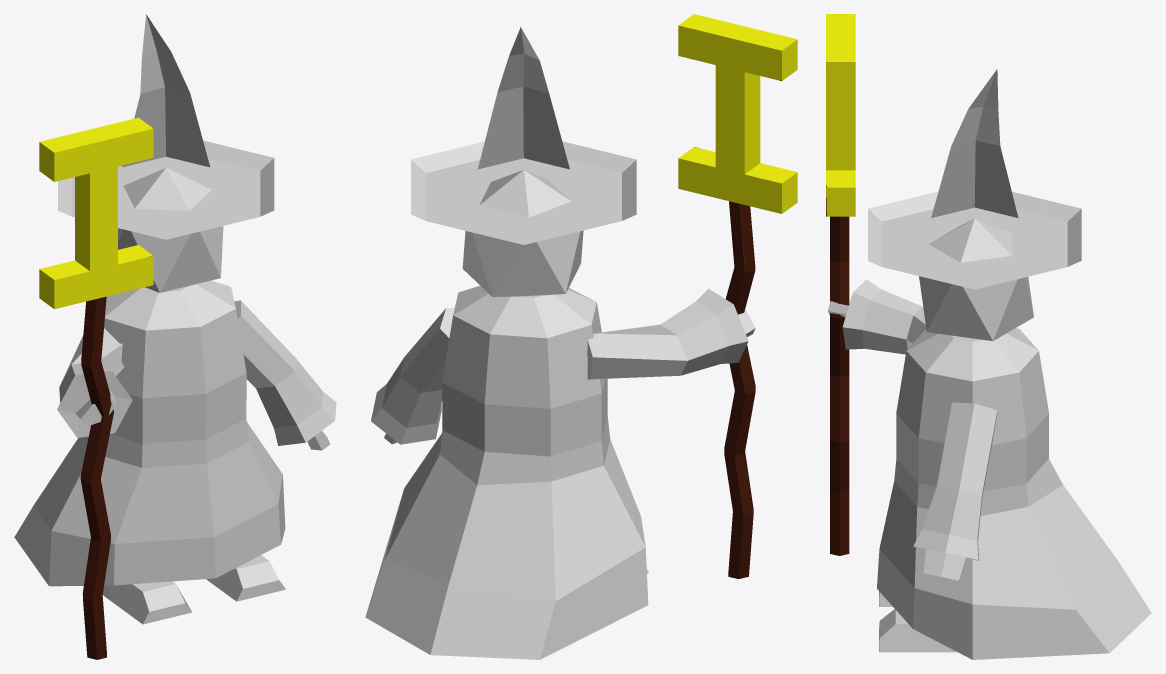
The picture shows the model from 3 angles, left to right: view 1: azimuth 30°, elevation 25°; view 2: azimuth 150°, elevation 25°; view 3: azimuth 270°, elevation 25°; orthographic projection. The views are drawn at different scales.
Parts seen in each view (by area): view 1: Cube.002, I mode.001; view 2: Cube.002, I mode.001; view 3: Cube.002, I mode.001.
Boxes of the visible parts, bbox=[...] form: Cube.002: bbox=[14, 14, 336, 624]; I mode.001: bbox=[39, 117, 153, 659]; Cube.002: bbox=[365, 27, 755, 659]; I mode.001: bbox=[678, 14, 797, 579]; Cube.002: bbox=[828, 69, 1151, 659]; I mode.001: bbox=[826, 14, 855, 555].
Bounding box in the file's own units: 2.91 × 4.47 × 2.42.
Materials: 1 (1 with a texture image).
